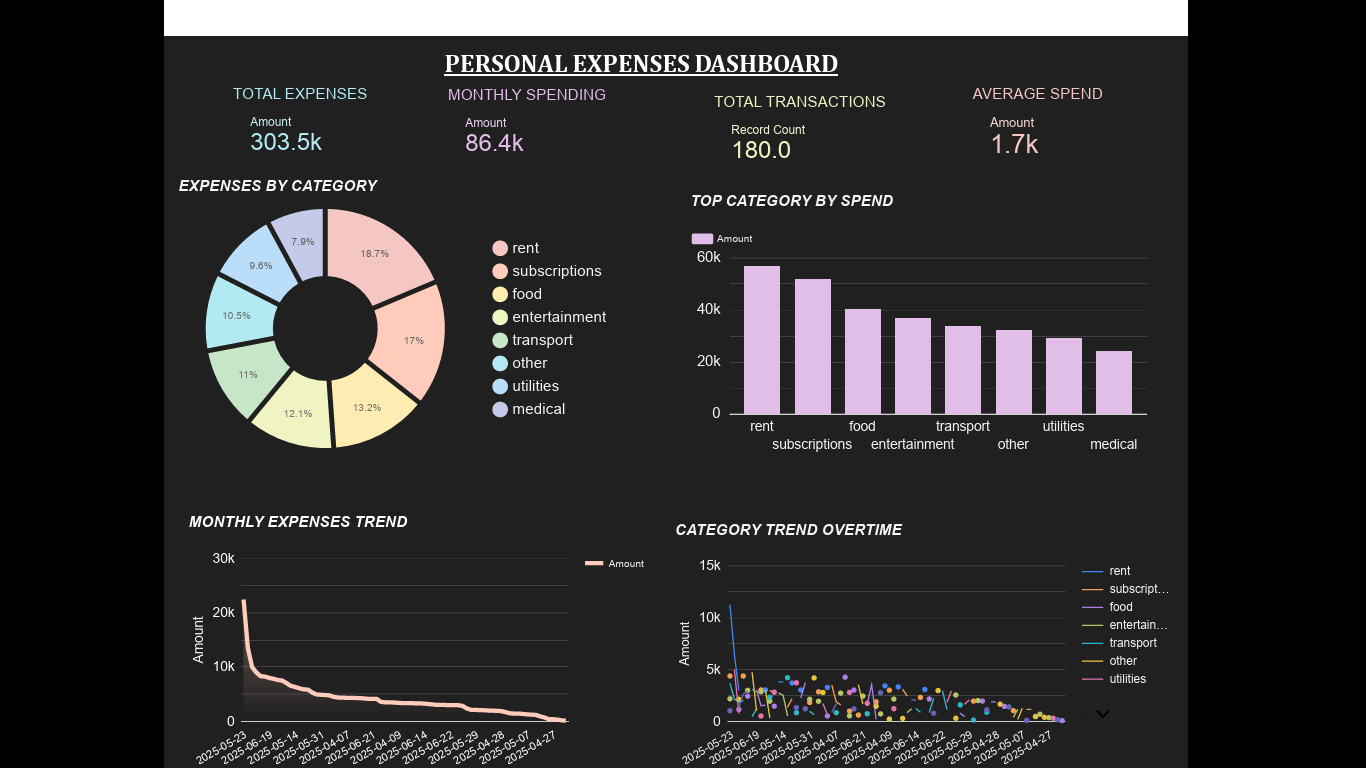

The page's visual inventory and layout, read from the dashboard file:
{"tool":"powerbi","page":{"name":"Page 1","canvas":[1280,720],"ordinal":0},"visuals":[{"type":"card","fields":{"Values":["Sum(Table1.Amount)"]},"box":[0,0,467.6,107.6],"z":0},{"type":"card","fields":{"Values":["Avg(Table1.Amount)"]},"box":[431.7,0,449.6,107.6],"z":1000},{"type":"card","fields":{"Values":["CountNonNull(Table1.Date)"]},"box":[896.3,0,373.4,107.6],"z":2000},{"type":"slicer","fields":{"Values":["Table1.Month"]},"box":[588.5,140.4,251,230],"z":3000},{"type":"slicer","fields":{"Values":["Table1.Category"]},"box":[264.4,130,334.6,230],"z":4000},{"type":"slicer","fields":{"Values":["Table1.Payment Method"]},"box":[0,130,264.4,230],"z":5000},{"type":"donutChart","fields":{"Category":["Table1.Category"],"Y":["Sum(Table1.Amount)"]},"box":[811.1,421.2,458.6,292.8],"z":6000},{"type":"lineChart","fields":{"Category":["Table1.Date"],"Y":["Sum(Table1.Amount)"]},"box":[0,409.3,403.3,310.7],"z":7000},{"type":"columnChart","fields":{"Category":["Table1.Month"],"Y":["Avg(Table1.Amount)"]},"box":[397.3,421.2,403.3,298.8],"z":8000},{"type":"clusteredBarChart","fields":{"Y":["Sum(Table1.Amount)"],"Category":["Table1.Category"]},"box":[839.6,140.8,441,280.3],"z":9000}]}

Visuals, with their boxes in screenshot pixels (x1, y1, x2, y2), scaled from the page's 1280x720 canvas onto the 1366x768 screenshot:
card - Sum(Table1.Amount): region(0, 0, 499, 115)
card - Avg(Table1.Amount): region(461, 0, 941, 115)
card - CountNonNull(Table1.Date): region(957, 0, 1355, 115)
slicer - Table1.Month: region(628, 150, 896, 395)
slicer - Table1.Category: region(282, 139, 639, 384)
slicer - Table1.Payment Method: region(0, 139, 282, 384)
donutChart - Table1.Category x Sum(Table1.Amount): region(866, 449, 1355, 762)
lineChart - Table1.Date x Sum(Table1.Amount): region(0, 437, 430, 767)
columnChart - Table1.Month x Avg(Table1.Amount): region(424, 449, 854, 767)
clusteredBarChart - Sum(Table1.Amount) x Table1.Category: region(896, 150, 1365, 449)
